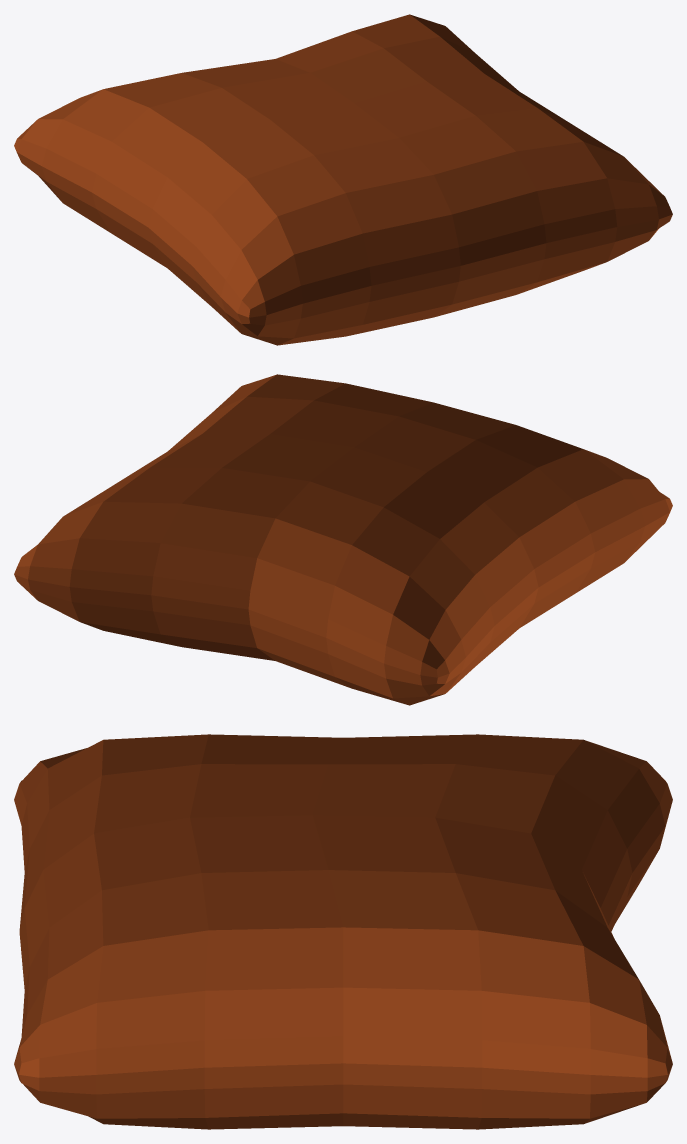
The model's file is Pillow 19.fbx.
3 renders of one model, top to bottom at view 1: azimuth 30°, elevation 25°; view 2: azimuth 150°, elevation 25°; view 3: azimuth 270°, elevation 25°, orthographic. The views are drawn at different scales.
Visible parts, largest first — view 1: Node 0; view 2: Node 0; view 3: Node 0.
Boxes of the visible parts, bbox=[...] form: Node 0: bbox=[14, 14, 672, 345]; Node 0: bbox=[14, 374, 672, 705]; Node 0: bbox=[14, 734, 672, 1129].
Size of the model in its own units: 0.5587 by 0.2184 by 0.5849.
